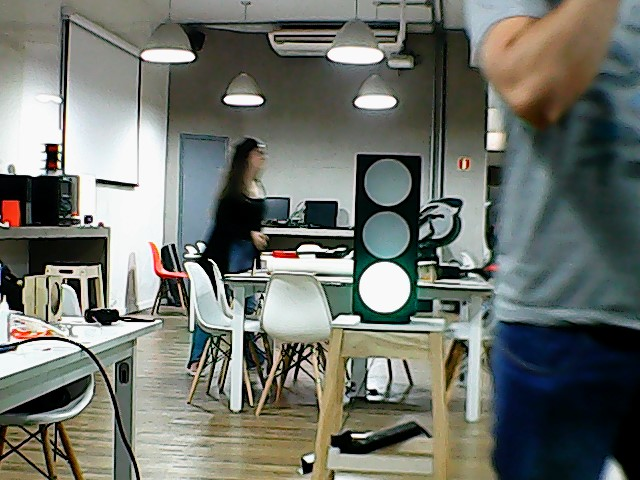verde: (349, 147, 423, 326)
